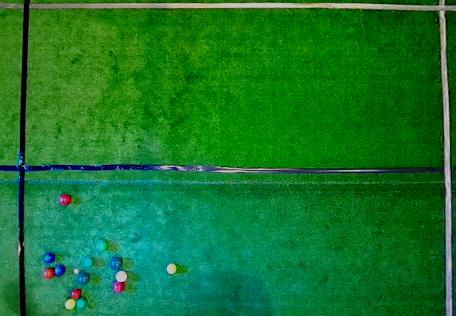blue: (54, 265, 66, 276), (43, 253, 55, 263)
green: (77, 270, 90, 284), (110, 257, 123, 269), (76, 297, 88, 309), (96, 240, 108, 251), (84, 257, 95, 268)
red: (59, 194, 72, 206), (43, 267, 54, 280), (113, 282, 125, 293), (116, 271, 127, 282), (70, 289, 81, 299)
vline: (1, 0, 30, 315), (436, 0, 455, 316)
white: (74, 269, 79, 274)
yellow: (64, 299, 76, 310), (166, 263, 177, 274)
